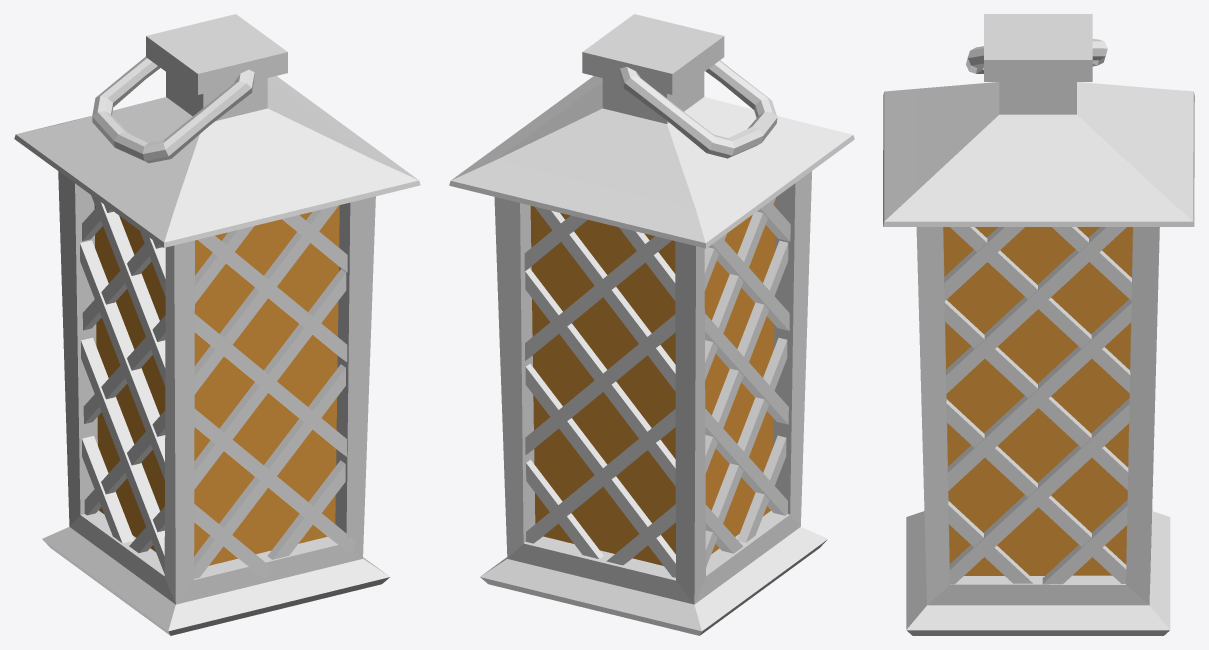
The model's file is SM_Lantern_Big_02.fbx.
3 views of the same model, side by side, from view 1: azimuth 30°, elevation 25°; view 2: azimuth 150°, elevation 25°; view 3: azimuth 270°, elevation 25° (orthographic). The views are drawn at different scales.
Visible parts, largest first — view 1: Cube.007, Torus.004, Cube.112, Cube.117, Cube.017, Cube.019, Cube.016, Cube.014, Cube.012, Cube.111, Cube.008, Cube.119 (+9 smaller); view 2: Cube.007, Torus.004, Cube.095, Cube.098, Cube.094, Cube.092, Cube.115, Cube.097, Cube.118, Cube.091, Cube.112, Cube.117 (+9 smaller); view 3: Cube.007, Cube.102, Cube.107, Cube.101, Cube.105, Cube.108, Cube.104, Cube.109, Cube.103, Cube.110, Cube.106, Torus.004.
Part boxes in pixels (<box>): Cube.007: <box>14,14,420,635</box>; Torus.004: <box>92,56,254,163</box>; Cube.112: <box>80,240,165,479</box>; Cube.117: <box>81,337,164,573</box>; Cube.017: <box>194,269,346,489</box>; Cube.019: <box>194,364,345,578</box>; Cube.016: <box>194,205,338,394</box>; Cube.014: <box>194,409,356,552</box>; Cube.012: <box>194,314,346,456</box>; Cube.111: <box>91,195,165,385</box>; Cube.008: <box>198,235,347,362</box>; Cube.119: <box>82,436,134,543</box>; Cube.007: <box>449,14,854,635</box>; Torus.004: <box>619,60,777,158</box>; Cube.095: <box>525,268,675,485</box>; Cube.098: <box>525,363,675,577</box>; Cube.094: <box>535,207,675,391</box>; Cube.092: <box>525,314,675,454</box>; Cube.115: <box>705,240,788,473</box>; Cube.097: <box>526,409,675,543</box>; Cube.118: <box>705,338,787,567</box>; Cube.091: <box>525,236,671,360</box>; Cube.112: <box>705,313,788,424</box>; Cube.117: <box>705,409,787,515</box>; Cube.007: <box>883,14,1194,635</box>; Cube.102: <box>947,299,1131,491</box>; Cube.107: <box>949,398,1129,584</box>; Cube.101: <box>946,227,1126,393</box>; Cube.105: <box>944,300,1128,490</box>; Cube.108: <box>946,399,1126,583</box>; Cube.104: <box>950,227,1130,393</box>; Cube.109: <box>1042,500,1127,584</box>; Cube.103: <box>944,227,1024,300</box>; Cube.110: <box>948,501,1033,583</box>; Cube.106: <box>1052,227,1131,300</box>; Torus.004: <box>966,39,1107,73</box>.
Size of the model in its own units: 53.84 by 104 by 54.04.
